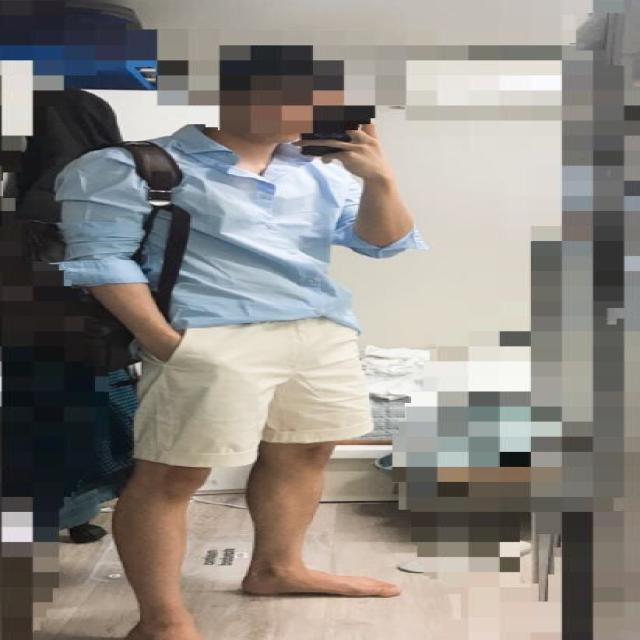shirt: (52, 122, 420, 335)
shortpants: (127, 316, 362, 463)
